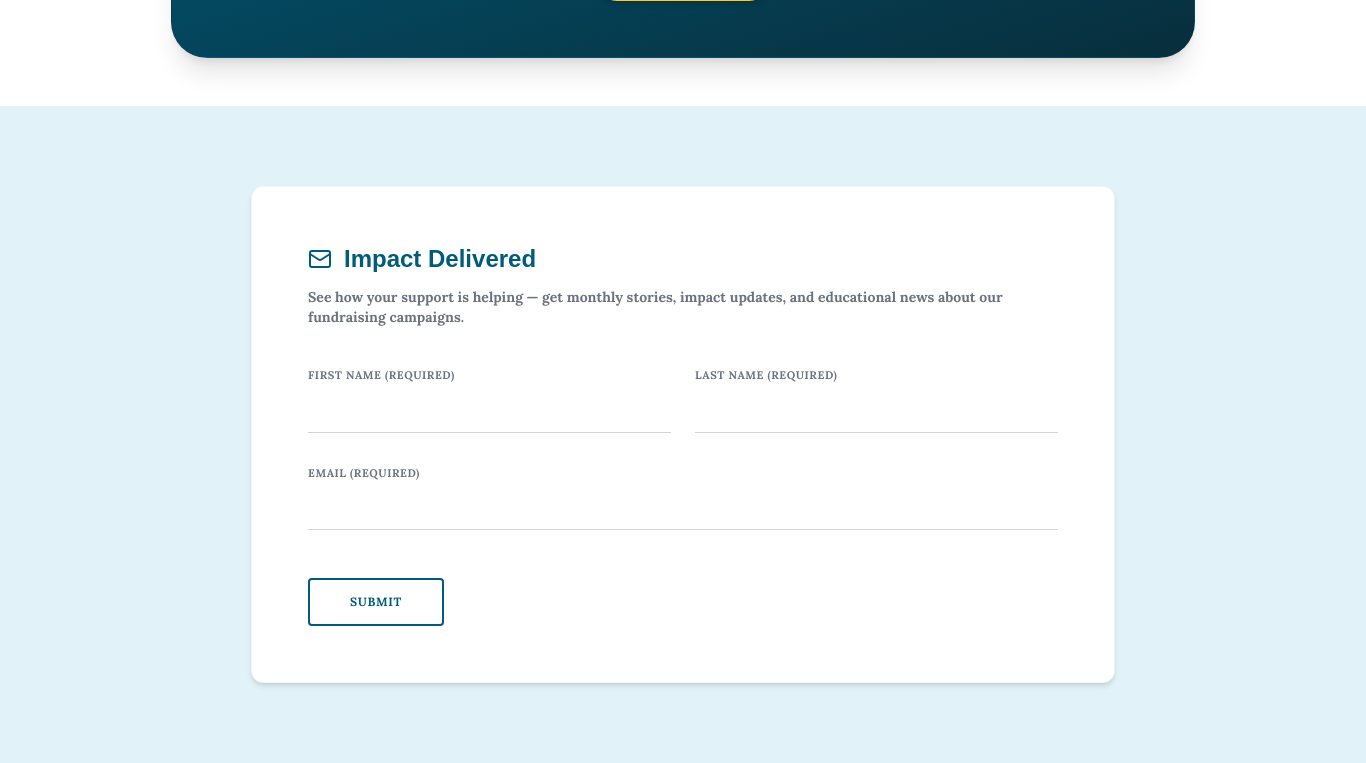
Test: home page newsletter form › subscribes through /api/subscribe rather than the contact form
(page scrolled)
Type "Ada" into the field labelled "First Name (required)" at (490, 410), box [308,388,671,432]
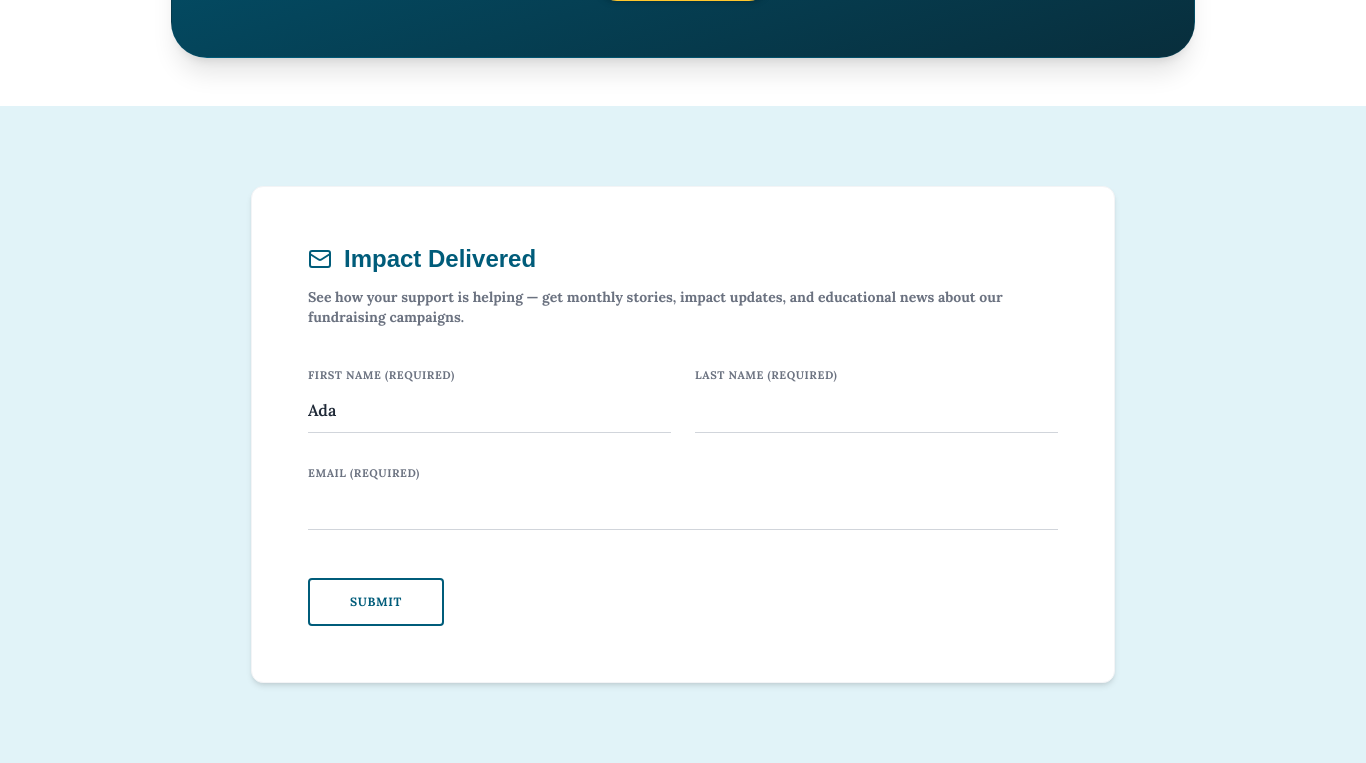
Type "Lovelace" into the field labelled "Last Name (required)" at (876, 410), box [695,388,1058,432]
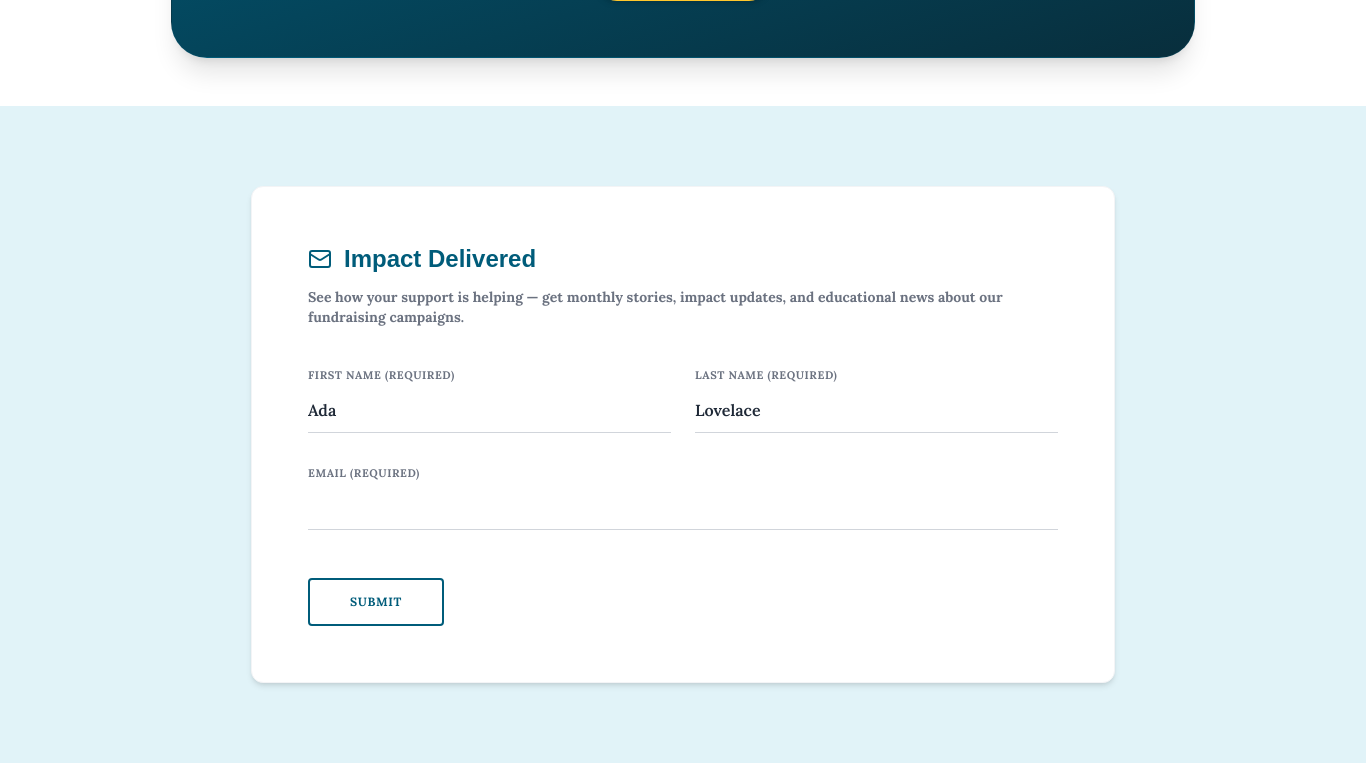
Type "ada@example.com" into the field labelled "Email (required)" at (683, 508), box [308,485,1058,530]
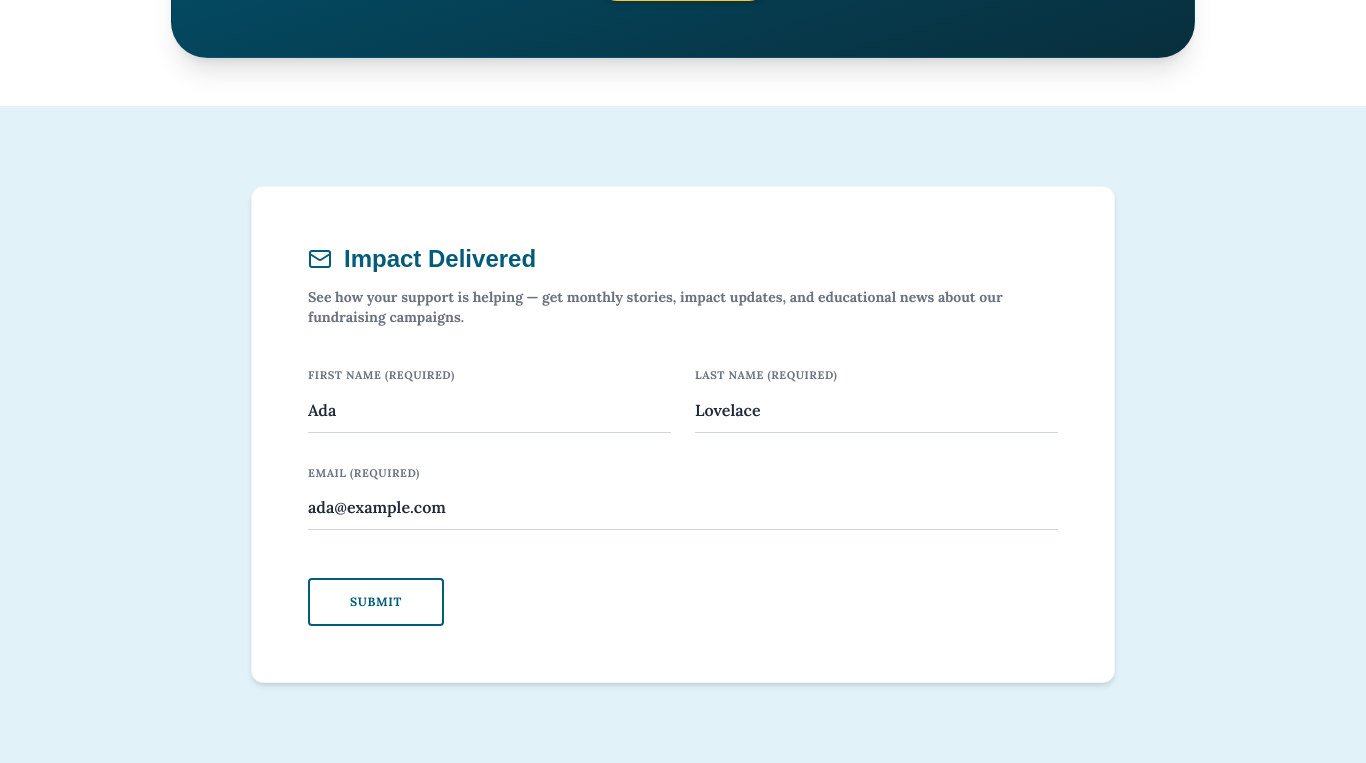
Click the button "SUBMIT" at (376, 602), box [308,578,444,626]
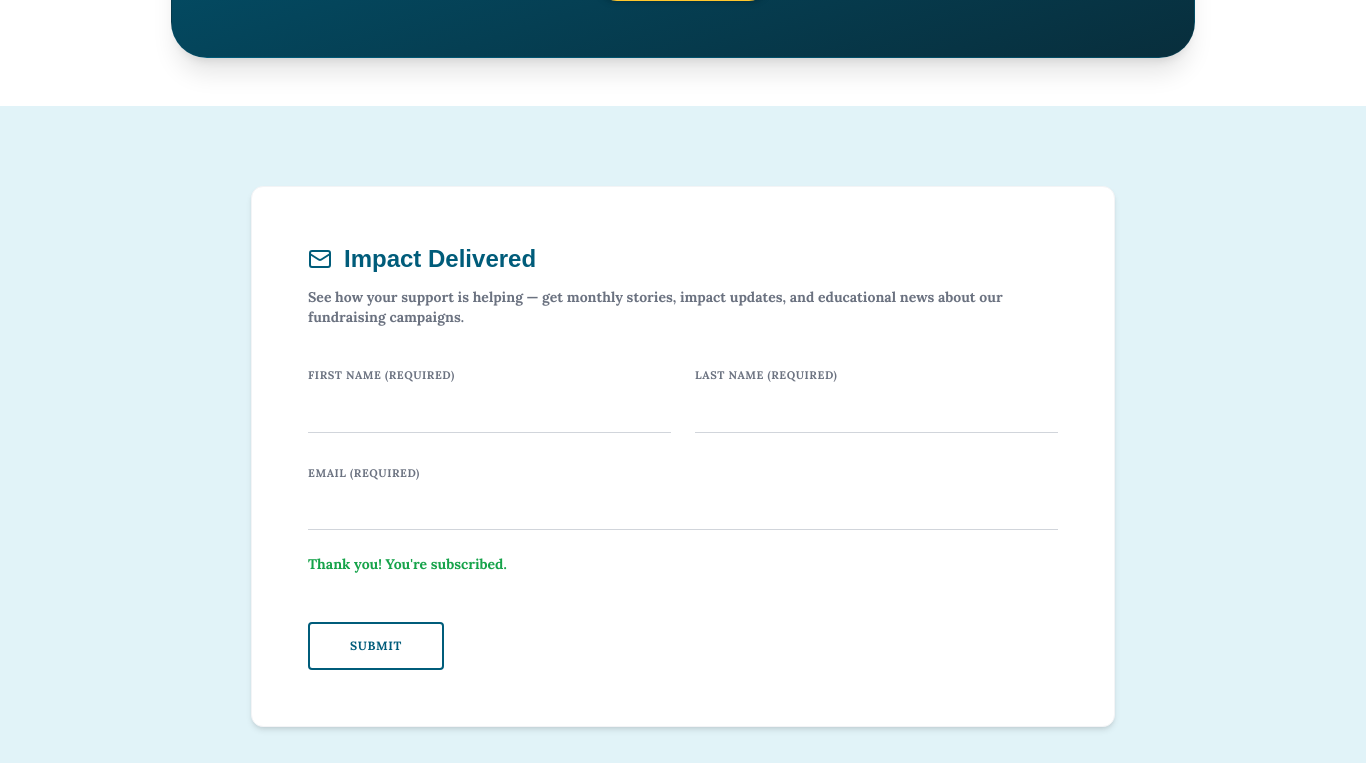
Result: the text "Thank you! You're subscribed." is shown at [308,555,507,573]
Result: the field labelled "Email (required)" is empty at [308,485,1058,530]
